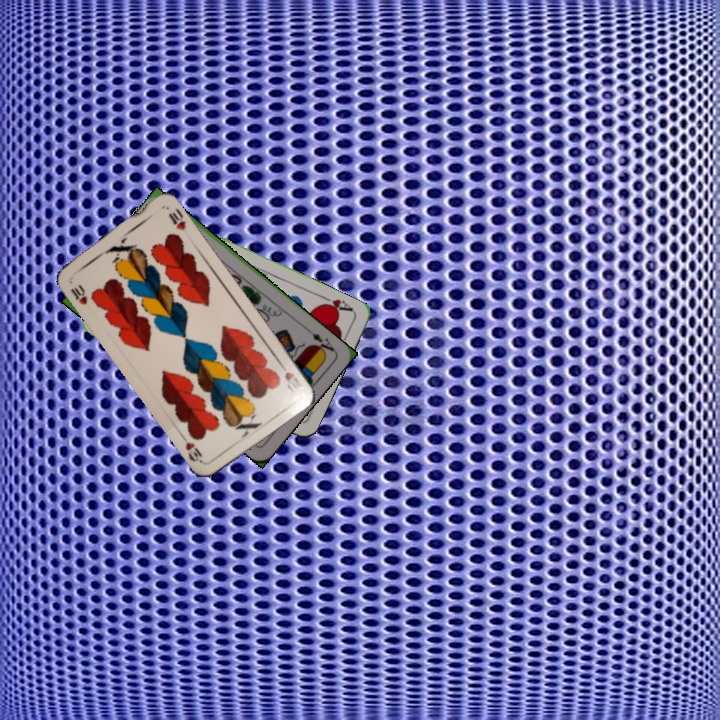EA: (308, 329, 338, 358)
H10: (275, 358, 307, 394), (66, 281, 90, 307)
HA: (317, 292, 356, 316)
